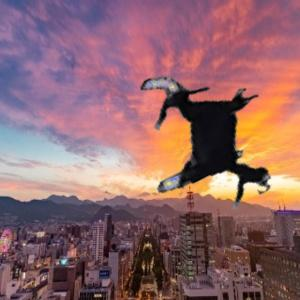drone: (115, 56, 290, 231)
